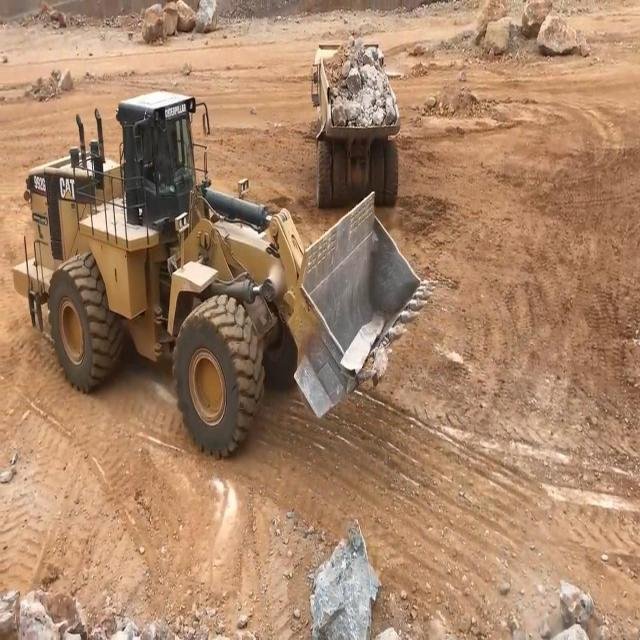Camion volquete: (311, 37, 407, 217)
pala cargadora: (10, 90, 422, 457)
